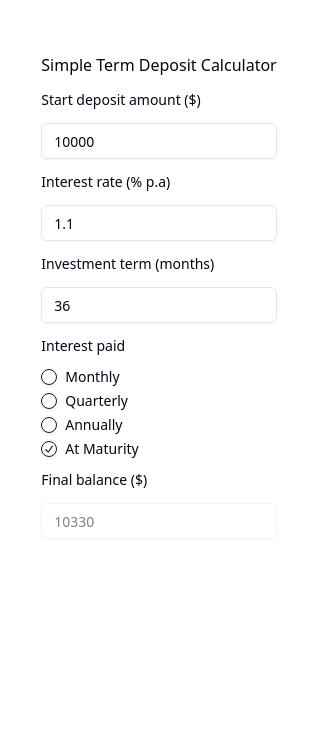
Test case: Home page › should successfully select monthly radio item
Click the radio button with test id "monthly-radio" at (49, 377), box [41,369,57,385]
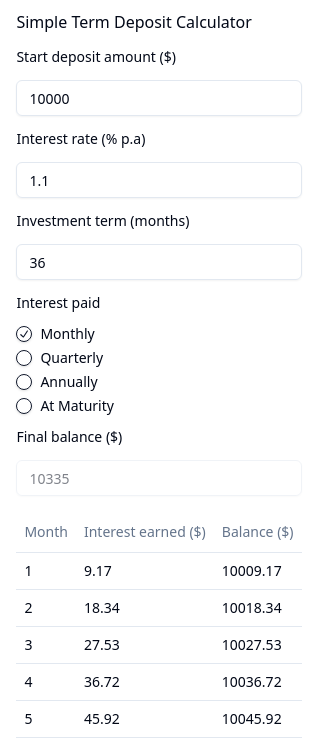
Expected: the number field with test id "depositAmount-input" holds "10000", [16,80,302,116]
Now the radio button with test id "monthly-radio" is checked, box [16,326,32,342]
Now the number field with test id "finalBalance-input" holds "10335", box [16,460,302,496]
